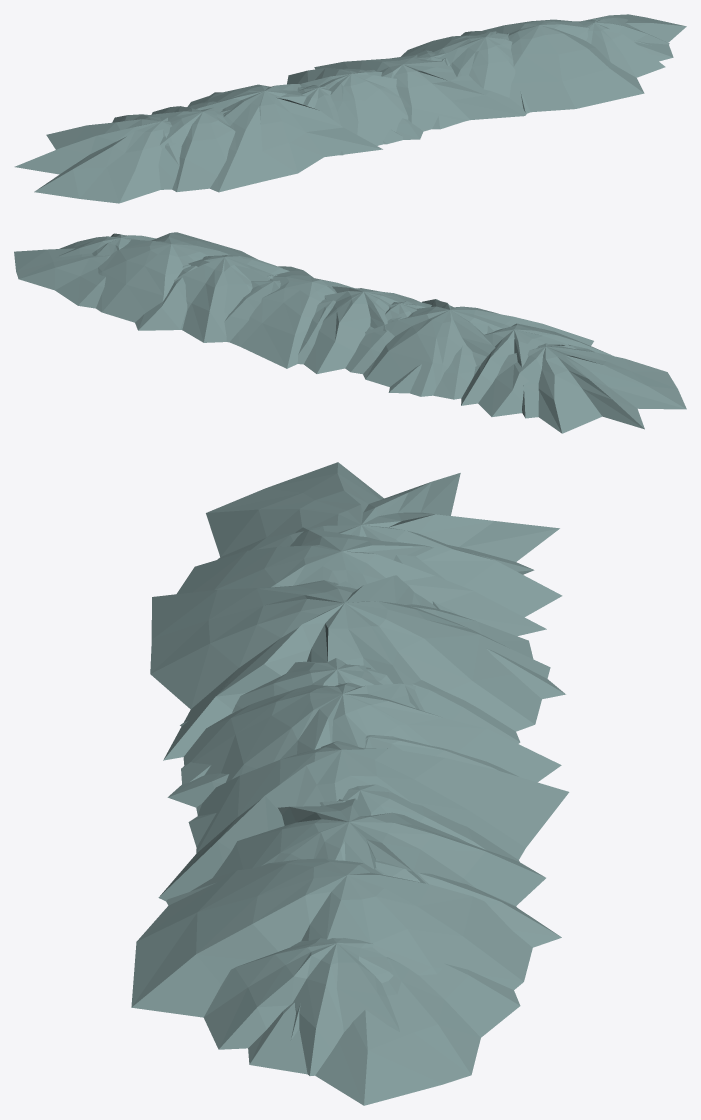
Rendered from range_grove_near.glb.
3 views of the same model, one above another, from view 1: azimuth 30°, elevation 25°; view 2: azimuth 150°, elevation 25°; view 3: azimuth 270°, elevation 25° (orthographic). The views are drawn at different scales.
Visible parts, largest first — view 1: land; view 2: land; view 3: land.
Part boxes in pixels (box(x1,y1,x2,y2)): land: box(14, 14, 686, 203); land: box(14, 232, 686, 433); land: box(131, 462, 569, 1105).
Size of the model in its own units: 851 by 53.08 by 245.
